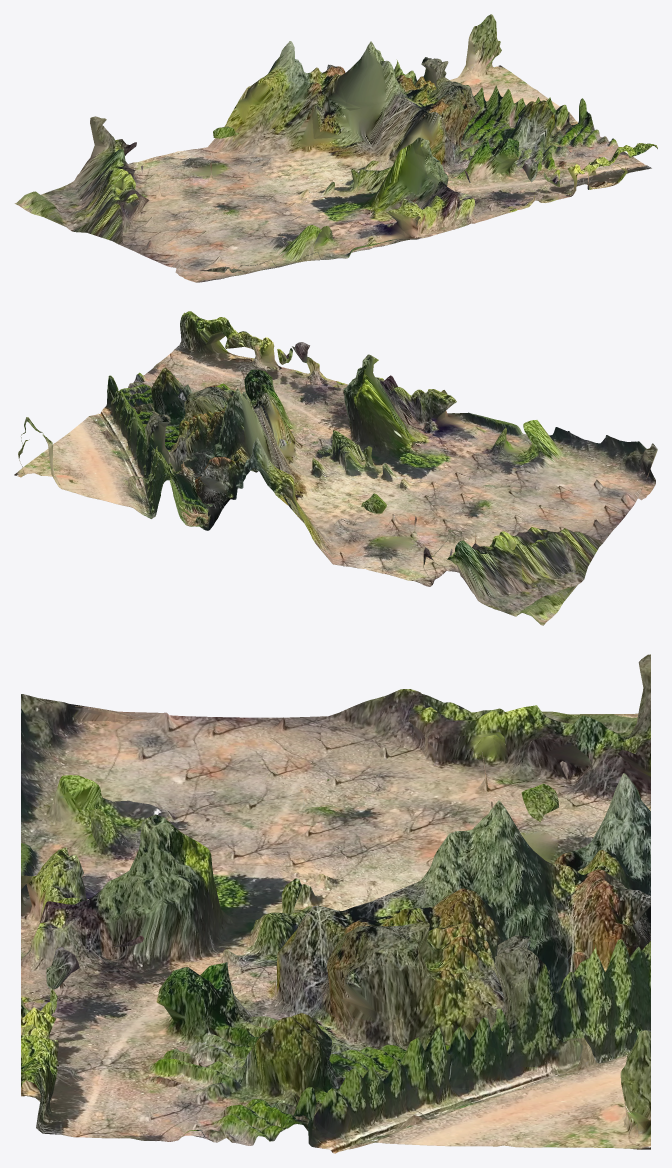
File: BlockYY_L20_306.glb
The picture shows the model from 3 angles, top to bottom: view 1: azimuth 30°, elevation 25°; view 2: azimuth 150°, elevation 25°; view 3: azimuth 270°, elevation 25°; orthographic projection. The views are drawn at different scales.
Parts seen in each view (by area): view 1: rtc; view 2: rtc; view 3: rtc.
Boxes of the visible parts, x1,y1,x2,y2 form: rtc: (14, 14, 657, 282); rtc: (14, 311, 657, 625); rtc: (21, 654, 650, 1153).
Size of the model in its own units: 76.2 by 16.89 by 42.74.
Materials: 9 (9 with a texture image).
